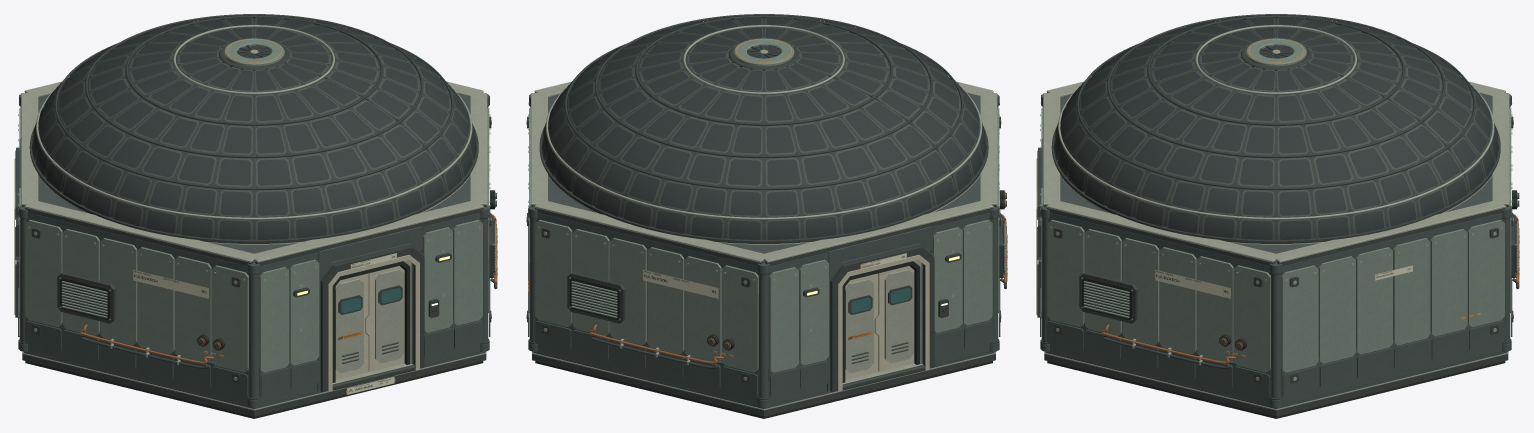
The model's file is cultivation.glb.
3 renders of one model, left to right at view 1: azimuth 30°, elevation 25°; view 2: azimuth 150°, elevation 25°; view 3: azimuth 270°, elevation 25°, orthographic.
Visible parts, largest first — view 1: Deck / ceramic tile, thermal skirt and access drains, Roof / clerestory North / propagation, Hull / North / propagation, Lock 3 / sliding door - left, Lock 3 / sliding door - right, Dock / service airlock, Deck / external station identification; view 2: Deck / ceramic tile, thermal skirt and access drains, Roof / clerestory North / propagation, Hull / North / propagation, Lock 5 / sliding door - left, Lock 5 / sliding door - right, Dock / service airlock, Deck / external station identification; view 3: Deck / ceramic tile, thermal skirt and access drains, Roof / clerestory North / propagation, Hull / North / propagation, Deck / external station identification.
Boxes of the visible parts, <box> form: Deck / ceramic tile, thermal skirt and access drains: <box>15,14,497,418</box>; Roof / clerestory North / propagation: <box>31,15,476,239</box>; Hull / North / propagation: <box>19,38,496,372</box>; Lock 3 / sliding door - left: <box>365,266,404,371</box>; Lock 3 / sliding door - right: <box>335,273,368,379</box>; Dock / service airlock: <box>14,150,449,391</box>; Deck / external station identification: <box>132,253,437,394</box>; Deck / ceramic tile, thermal skirt and access drains: <box>526,14,1007,418</box>; Roof / clerestory North / propagation: <box>541,15,986,239</box>; Hull / North / propagation: <box>529,38,1006,372</box>; Lock 5 / sliding door - left: <box>874,266,914,371</box>; Lock 5 / sliding door - right: <box>845,273,878,380</box>; Dock / service airlock: <box>807,255,959,391</box>; Deck / external station identification: <box>642,253,947,311</box>; Deck / ceramic tile, thermal skirt and access drains: <box>1037,14,1519,418</box>; Roof / clerestory North / propagation: <box>1053,15,1498,239</box>; Hull / North / propagation: <box>1041,38,1518,372</box>; Deck / external station identification: <box>1154,265,1412,298</box>.
Size of the model in its own units: 10.7 by 5.59 by 9.55.
28 materials, 25 textured.
